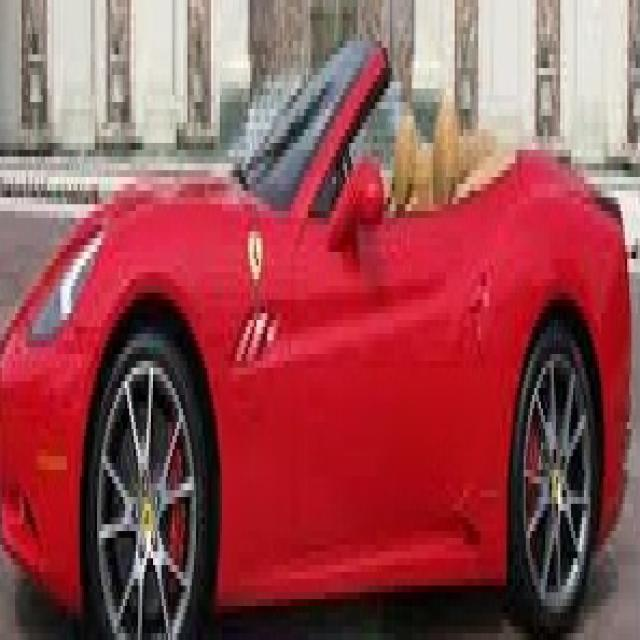red: (1, 44, 632, 612)
